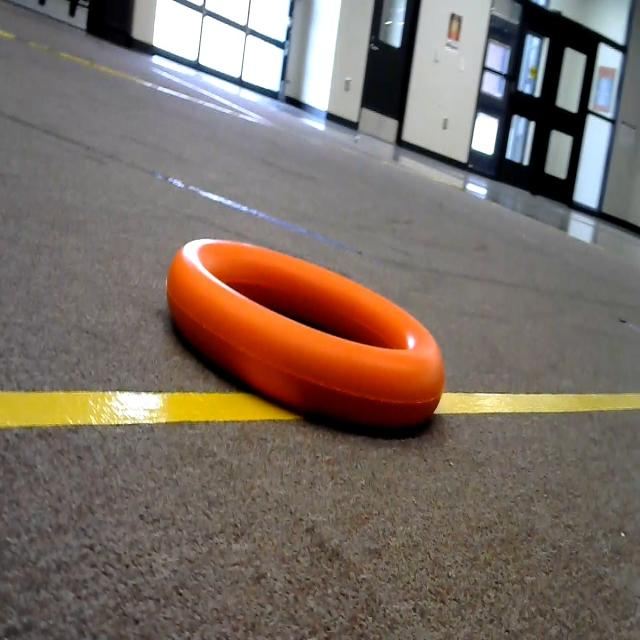note: (153, 191, 466, 476)
